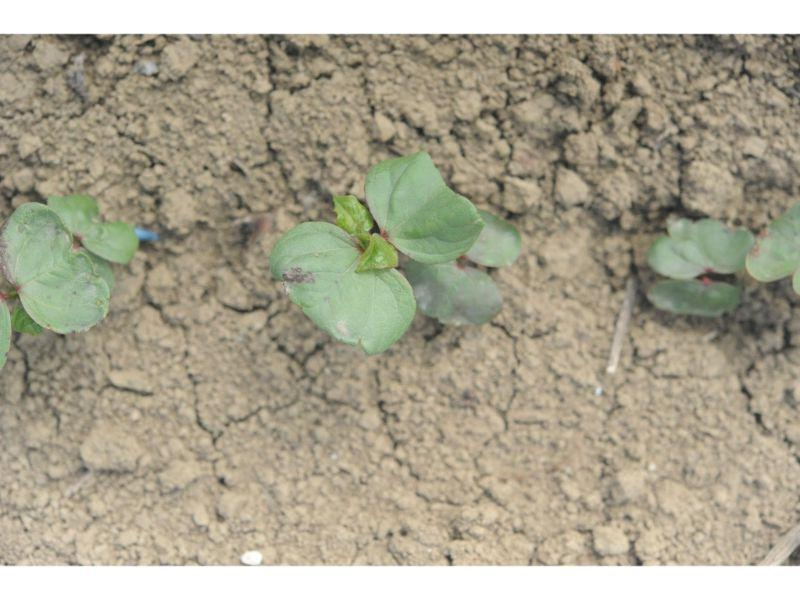cotton: (268, 150, 522, 353), (0, 193, 137, 360), (648, 199, 800, 318)
